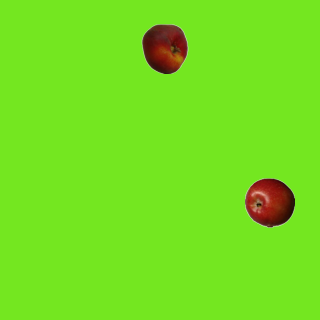Apple Braeburn: (244, 177, 294, 227)
Nectarine Flat: (139, 23, 189, 73)
